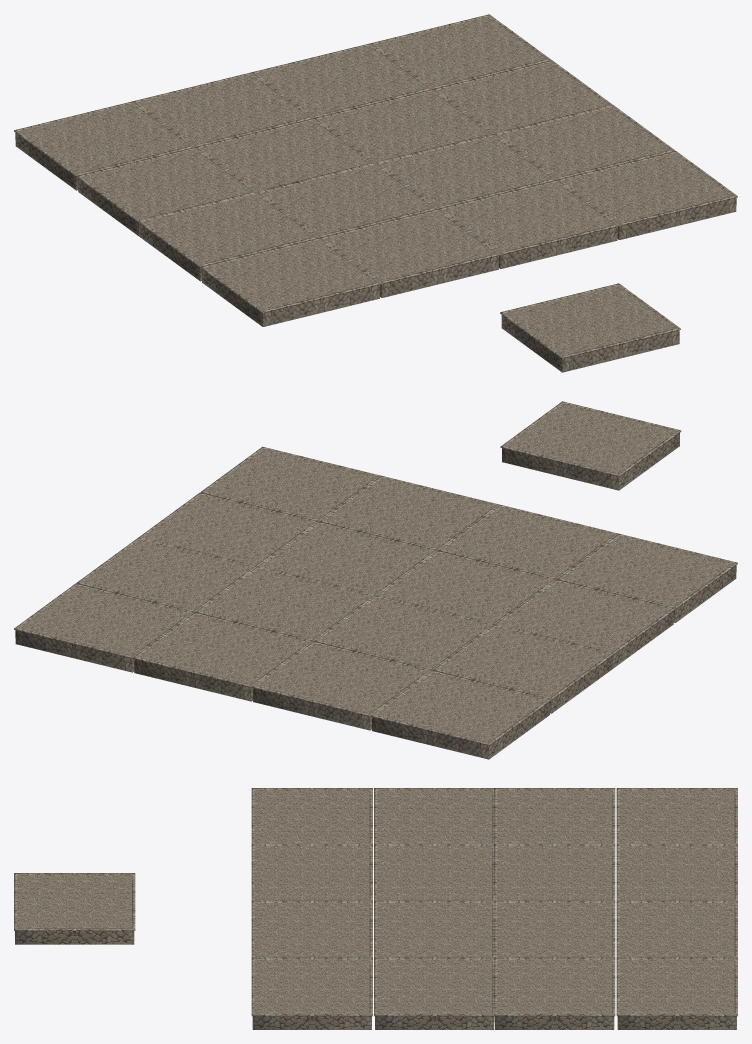
File: Wall2.fbx
3 views of the same model, one above another, from view 1: azimuth 30°, elevation 25°; view 2: azimuth 150°, elevation 25°; view 3: azimuth 270°, elevation 25° (orthographic). The views are drawn at different scales.
Visible parts, largest first — view 1: LV_Bugara_Village_Floor01_SM_JJH.001, LV_Bugara_Village_Floor01_SM_JJH; view 2: LV_Bugara_Village_Floor01_SM_JJH.001, LV_Bugara_Village_Floor01_SM_JJH; view 3: LV_Bugara_Village_Floor01_SM_JJH.001, LV_Bugara_Village_Floor01_SM_JJH.
Boxes of the visible parts, x1,y1,x2,y2 form: LV_Bugara_Village_Floor01_SM_JJH.001: (14, 14, 737, 326); LV_Bugara_Village_Floor01_SM_JJH: (500, 283, 680, 372); LV_Bugara_Village_Floor01_SM_JJH.001: (14, 446, 737, 759); LV_Bugara_Village_Floor01_SM_JJH: (500, 401, 681, 490); LV_Bugara_Village_Floor01_SM_JJH.001: (251, 788, 737, 1029); LV_Bugara_Village_Floor01_SM_JJH: (14, 873, 135, 944).
Size of the model in its own units: 1601 by 49.74 by 2158.
